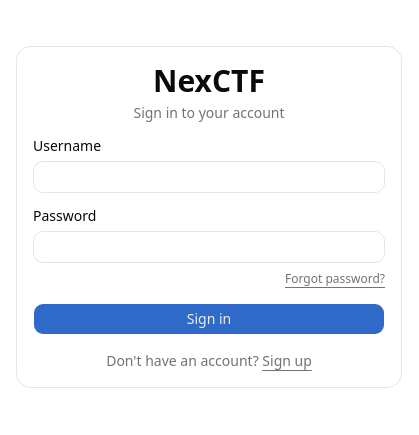
Test: shows the error description for any other API error
Type "alice" into the field labelled "Username" at {"x": 209, "y": 177}, box left=33, top=161, right=385, bottom=193
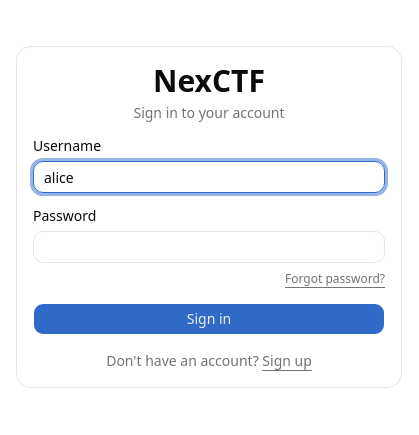
Type "hunter2" into the password field labelled "Password" at {"x": 209, "y": 247}, box left=33, top=231, right=385, bottom=263
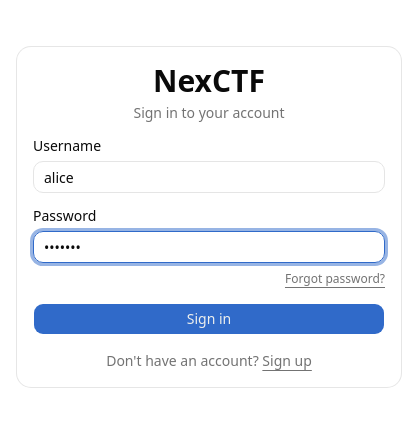
Click the button "Sign in" at {"x": 209, "y": 319}, box left=33, top=303, right=385, bottom=335
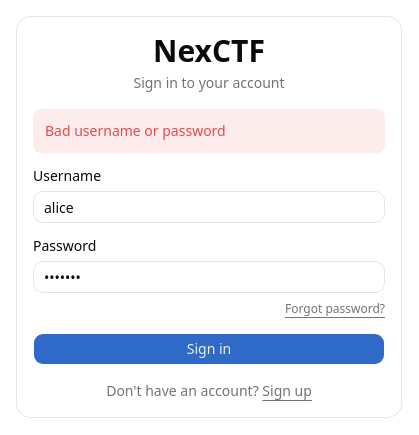
Check: the text "Bad username or password" is shown, box left=33, top=109, right=385, bottom=153
